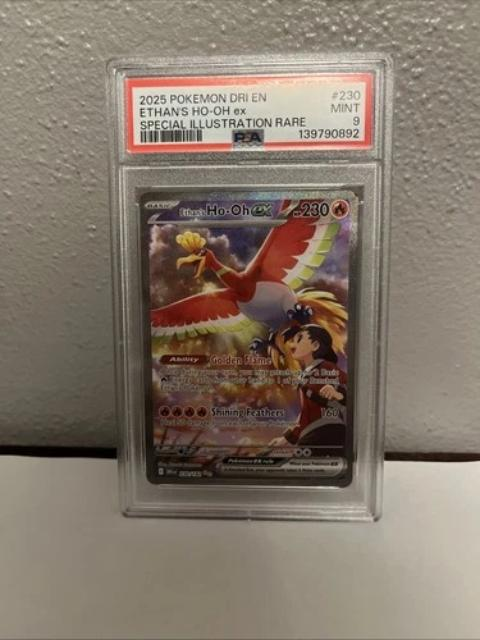Card: (136, 185, 362, 493)
Name: (175, 200, 277, 224)
